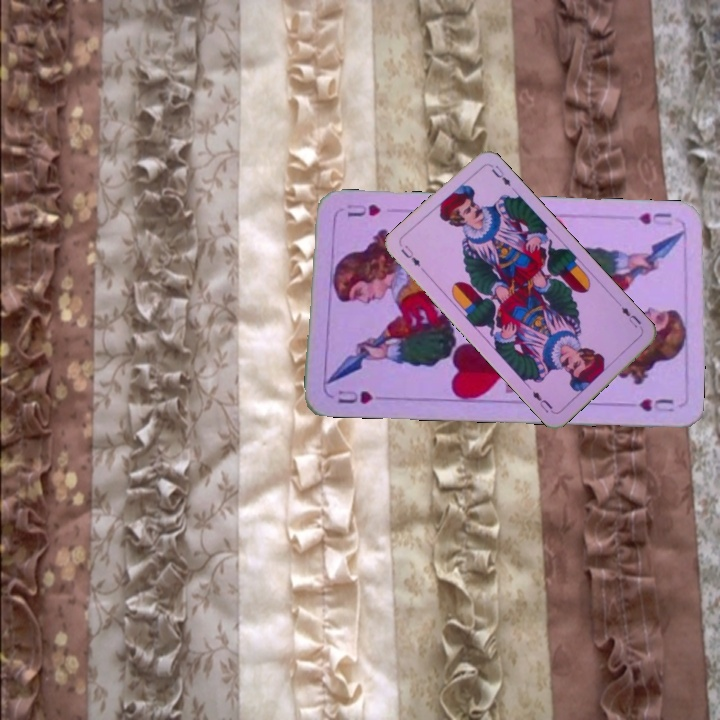EU: (617, 302, 644, 330), (397, 241, 423, 270)
HU: (333, 386, 375, 407), (635, 208, 676, 228)
